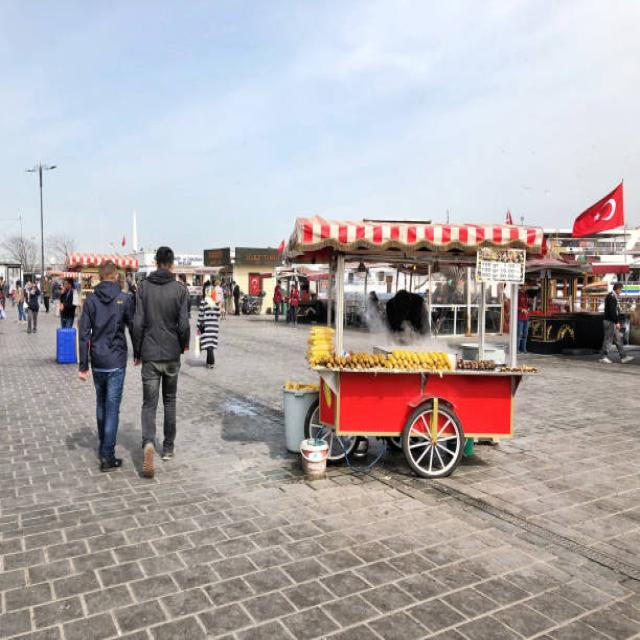Emperan: (272, 200, 555, 494)
